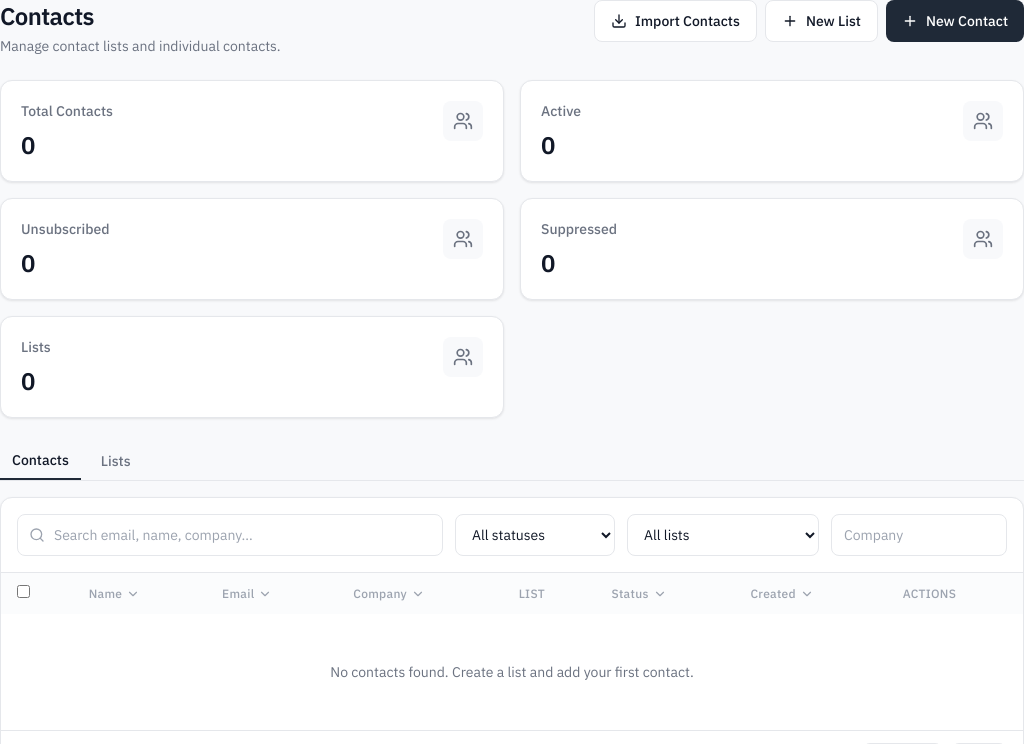
Test: ContactsPage › opens new contact modal and validates email
The image size is (1024, 744).
What coordinates should you click on to do the following:
click the button "New Contact"
I would click on:
 (955, 21)
Its box is [886, 0, 1023, 42].
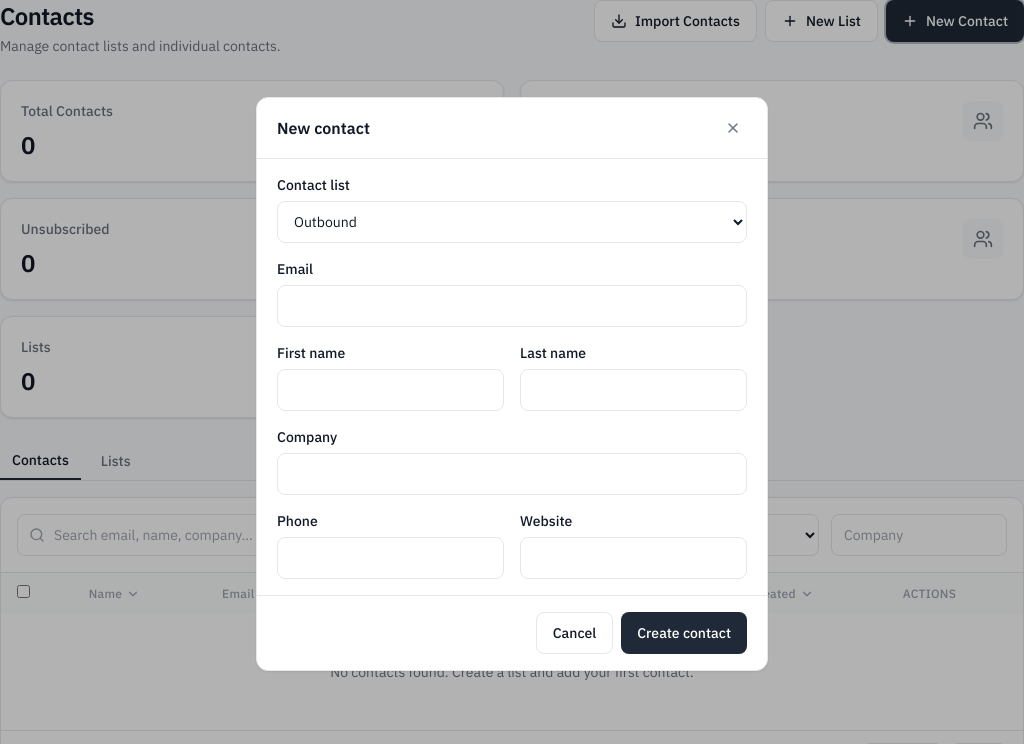
Expected: the dialog "New contact" is shown, [256, 97, 768, 671]
What coordinates should you click on to do the following:
click the button "Create contact"
I would click on:
 (684, 633)
Its box is [621, 612, 747, 654].
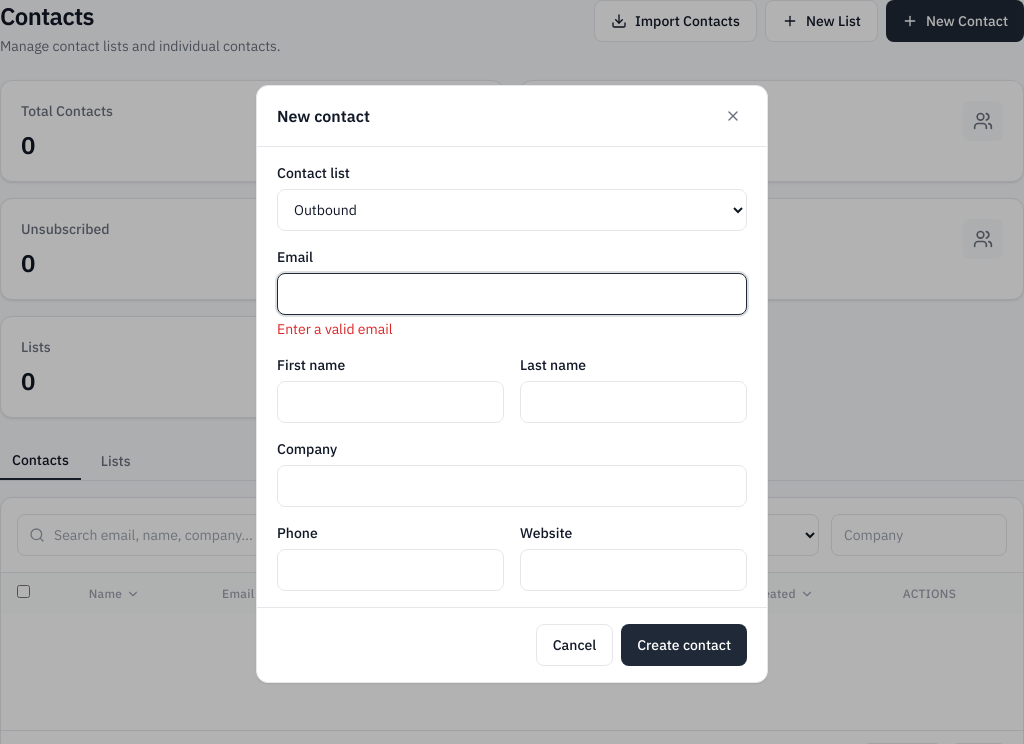
Expected: the text "Enter a valid email" is shown, [277, 320, 392, 338]
